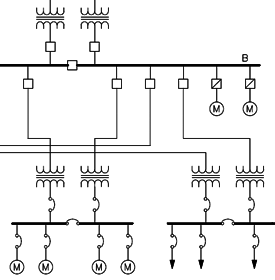circuit_breaker: (8, 228, 25, 253), (196, 194, 215, 214), (42, 194, 60, 214), (247, 232, 265, 252), (87, 193, 104, 214), (92, 230, 109, 251), (165, 230, 181, 251), (39, 230, 54, 252), (194, 231, 210, 251), (121, 230, 135, 252), (243, 195, 258, 214), (62, 216, 82, 230), (219, 217, 238, 227)
transformer: (28, 3, 69, 34), (27, 161, 70, 190), (75, 2, 113, 33), (231, 162, 270, 190), (75, 162, 112, 191), (186, 163, 223, 189)
